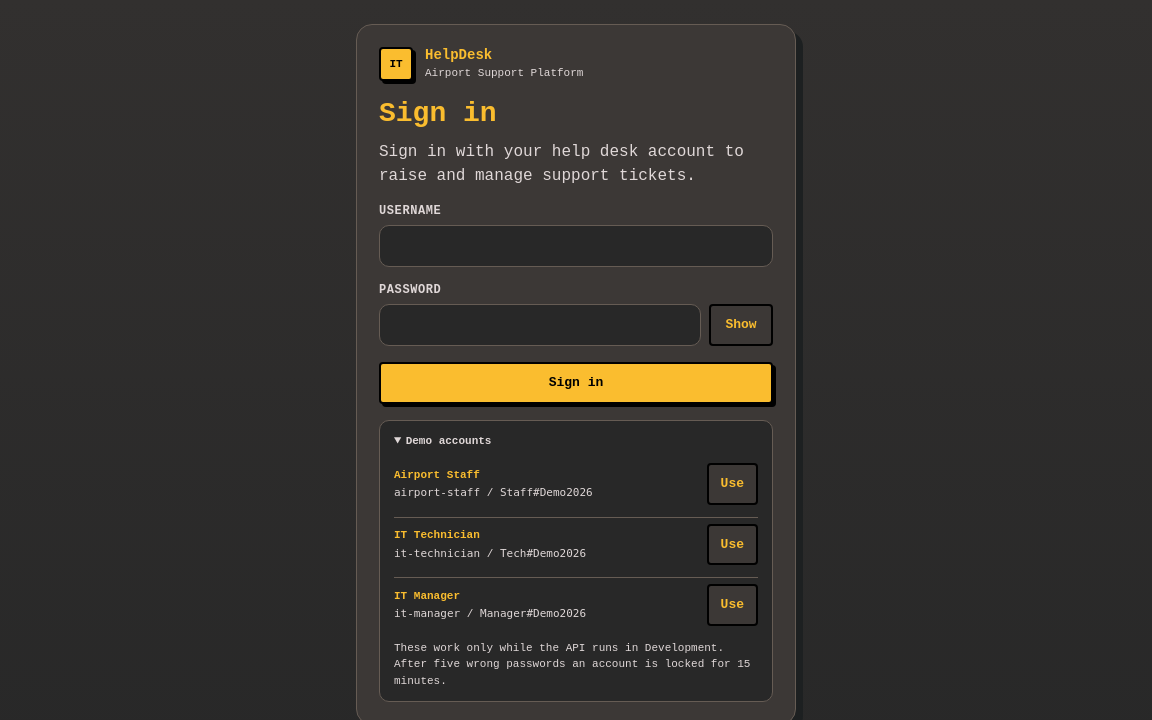
Scenario: Dashboard export — AC1 choosing what to export › EXP-C02 Metric summary downloads /export/summary with the session token and saves it under the server's name
Type "it-manager" into the field labelled "Username".
click(576, 246); type("it-manager")  # box [379, 225, 773, 267]
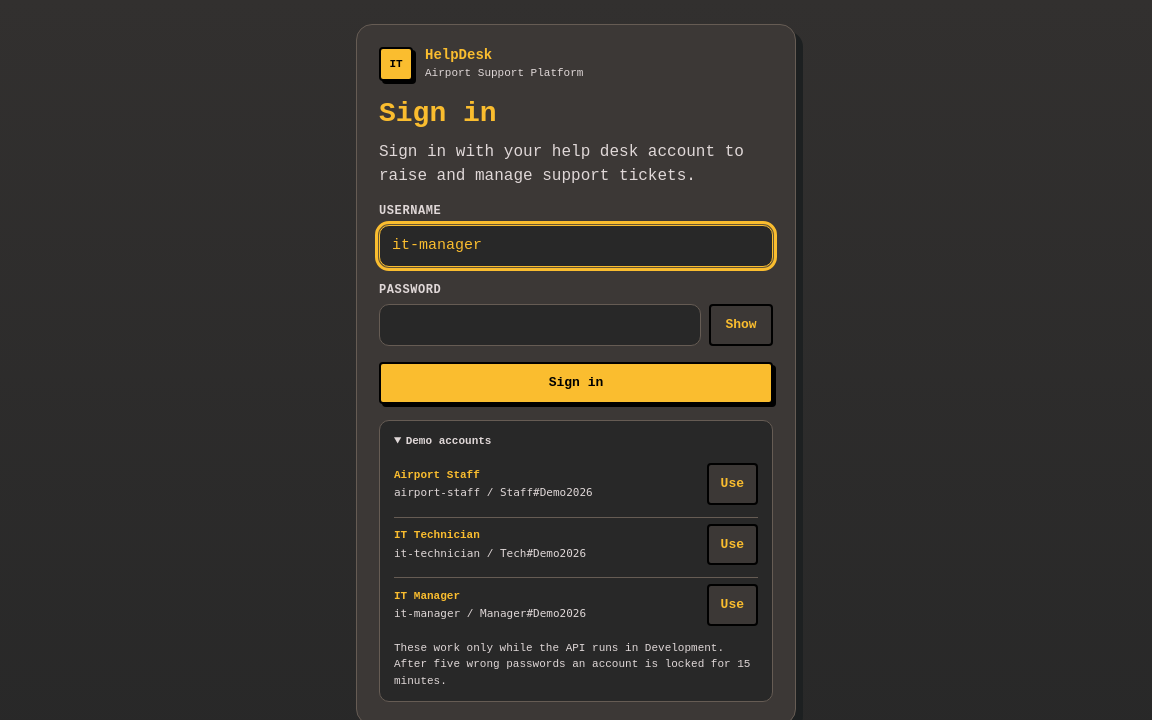
Type "any-password" into the password field labelled "Password".
click(540, 325); type("any-password")  # box [379, 304, 701, 346]
Then press Enter
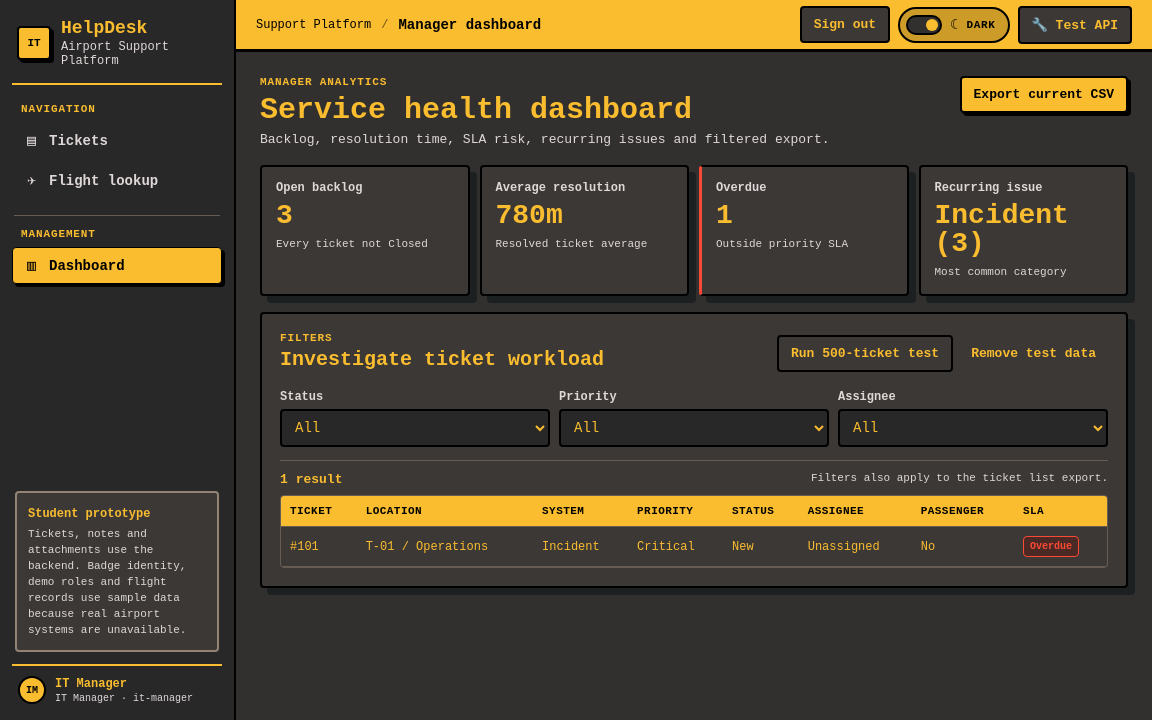
Check: the heading "Service health dashboard" is shown, box [260, 93, 692, 127]
Click the button "Export current CSV".
click(1044, 94)  # box [960, 76, 1128, 113]
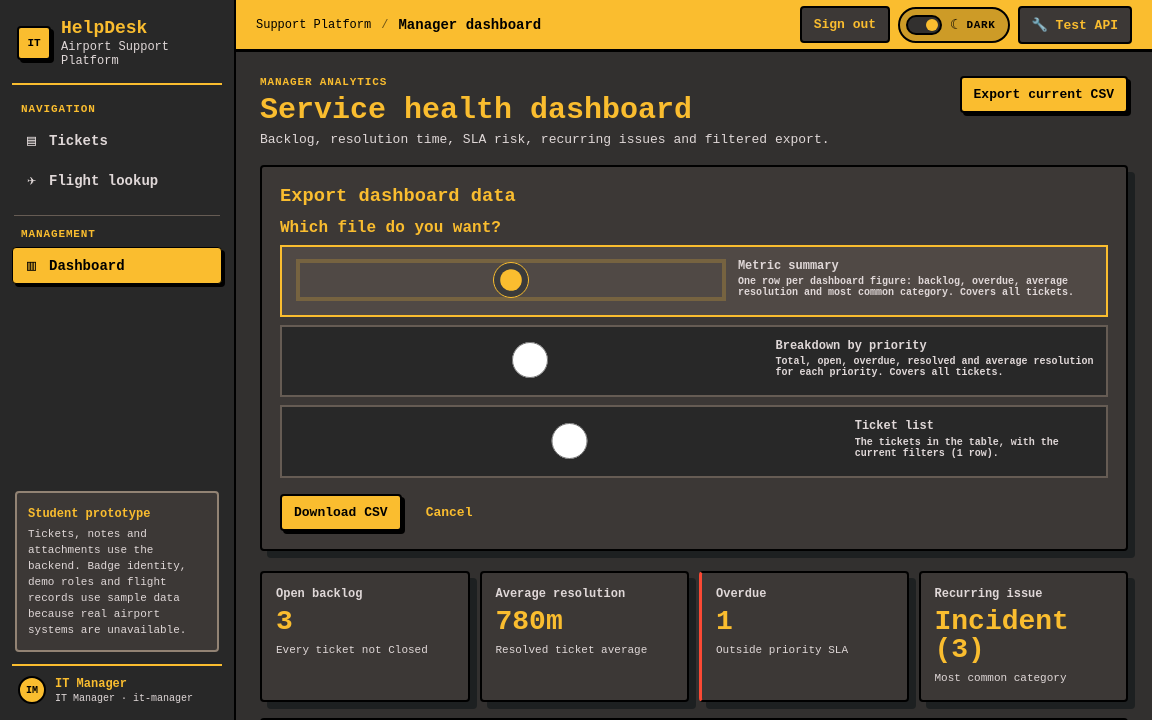
Click the button "Download CSV".
click(341, 512)  # box [280, 494, 402, 531]
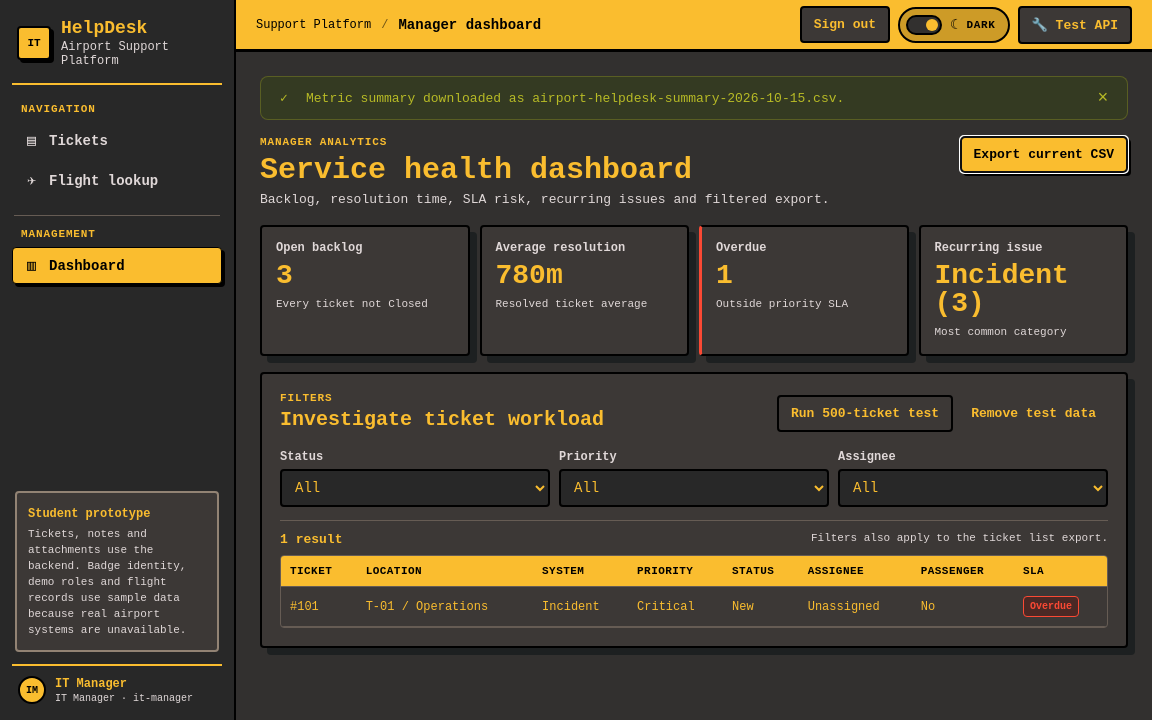
Check: the text "Metric summary downloaded as airport-helpdesk-summary-2026-10-15.csv." is shown, box [306, 90, 844, 106]
